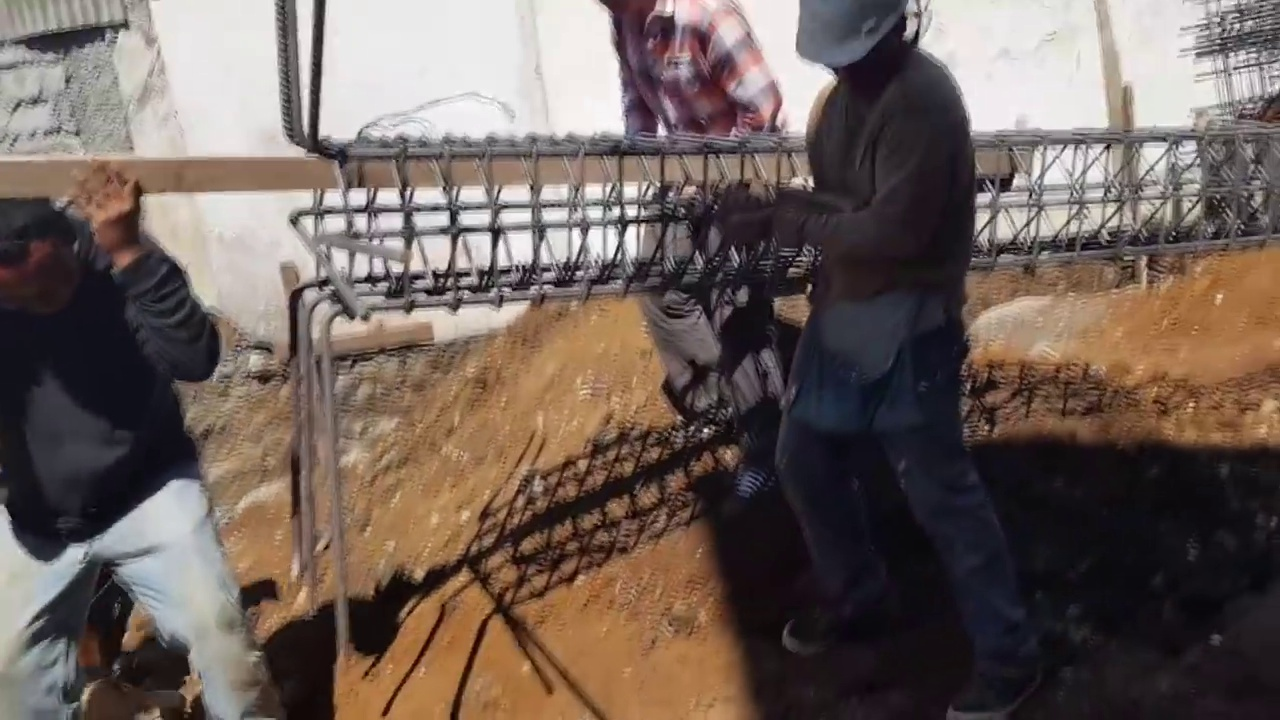helmet: (794, 0, 908, 67)
helmet-off: (0, 201, 101, 292)
helmet-on: (794, 1, 918, 99)
person: (748, 0, 1035, 704), (0, 165, 268, 714), (602, 0, 781, 428)
